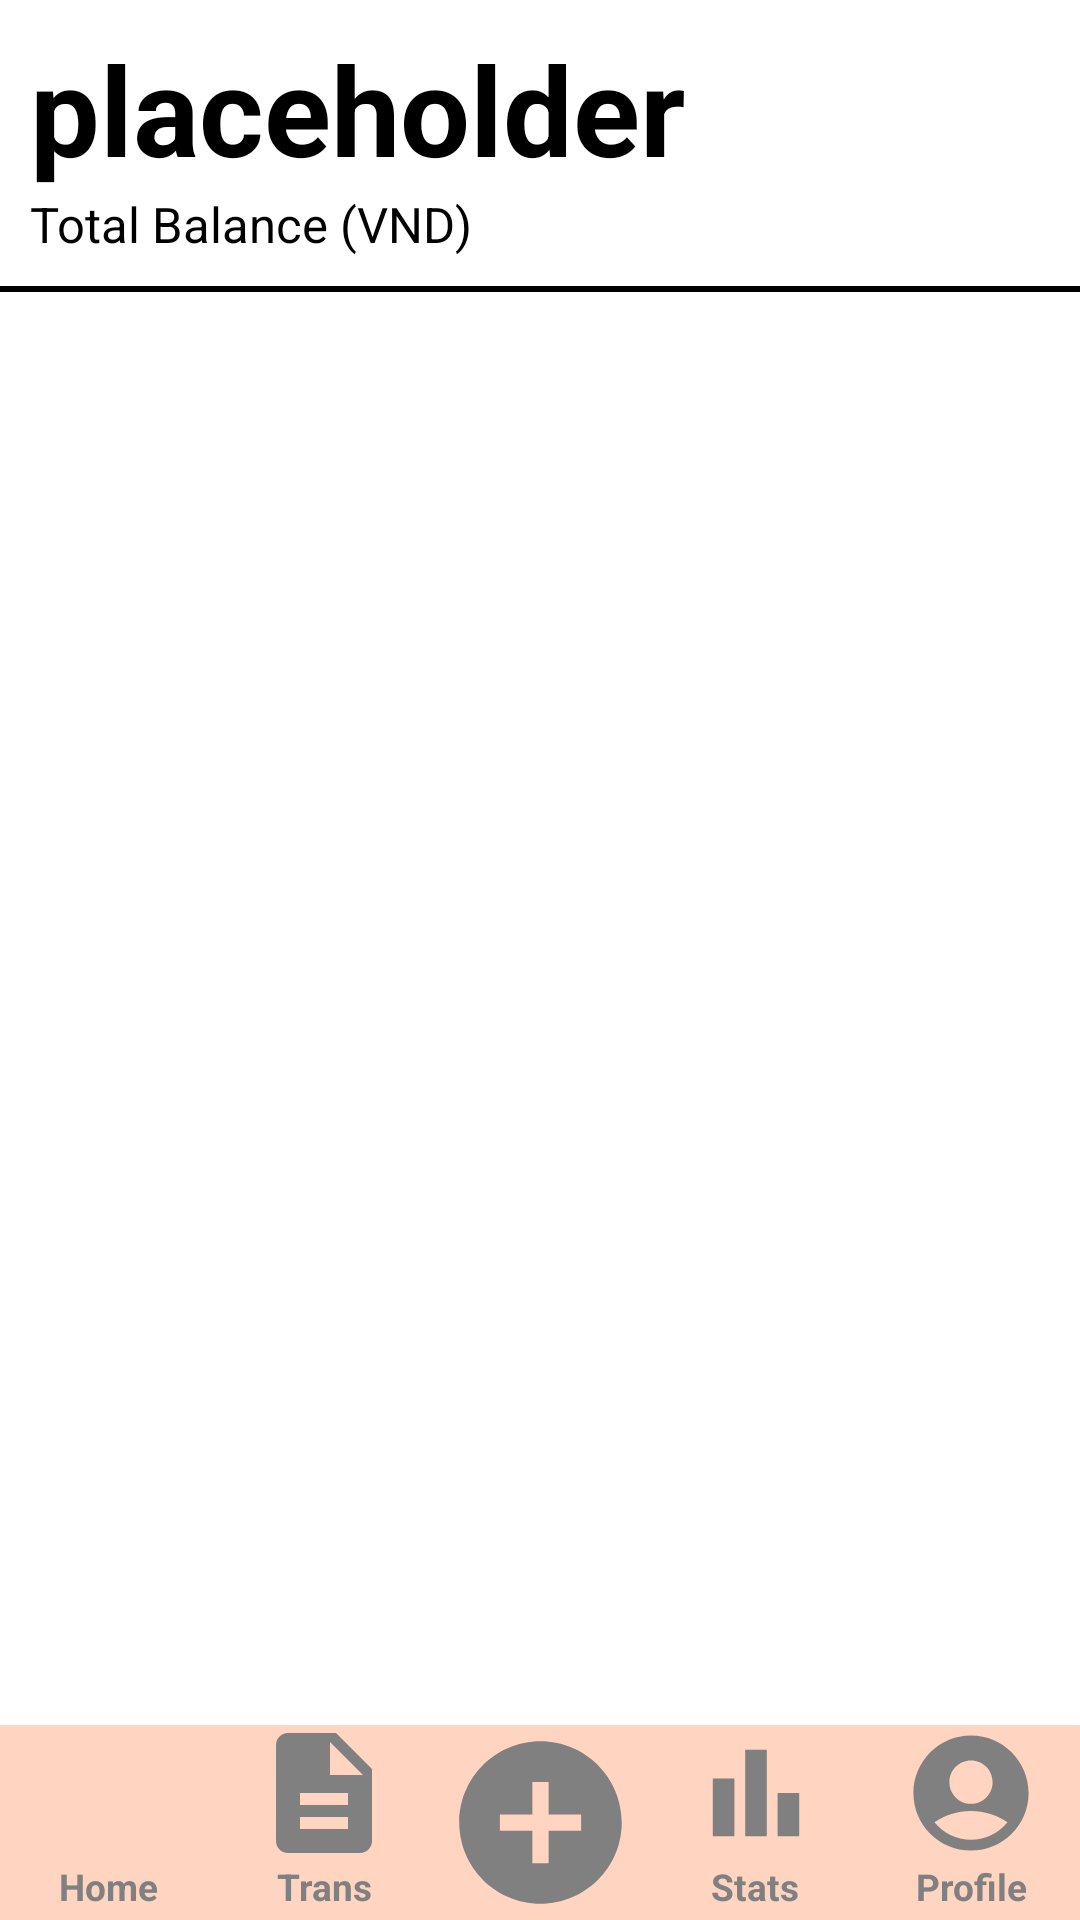

Icon bounding boxes for this 1080px×1920px phone screenshot, format Rect(x1, y1, x2, y2):
account circle: Rect(913, 1735, 1029, 1851)
add circle: Rect(459, 1741, 622, 1904)
bar chart: Rect(712, 1749, 800, 1837)
description: Rect(276, 1733, 372, 1853)
